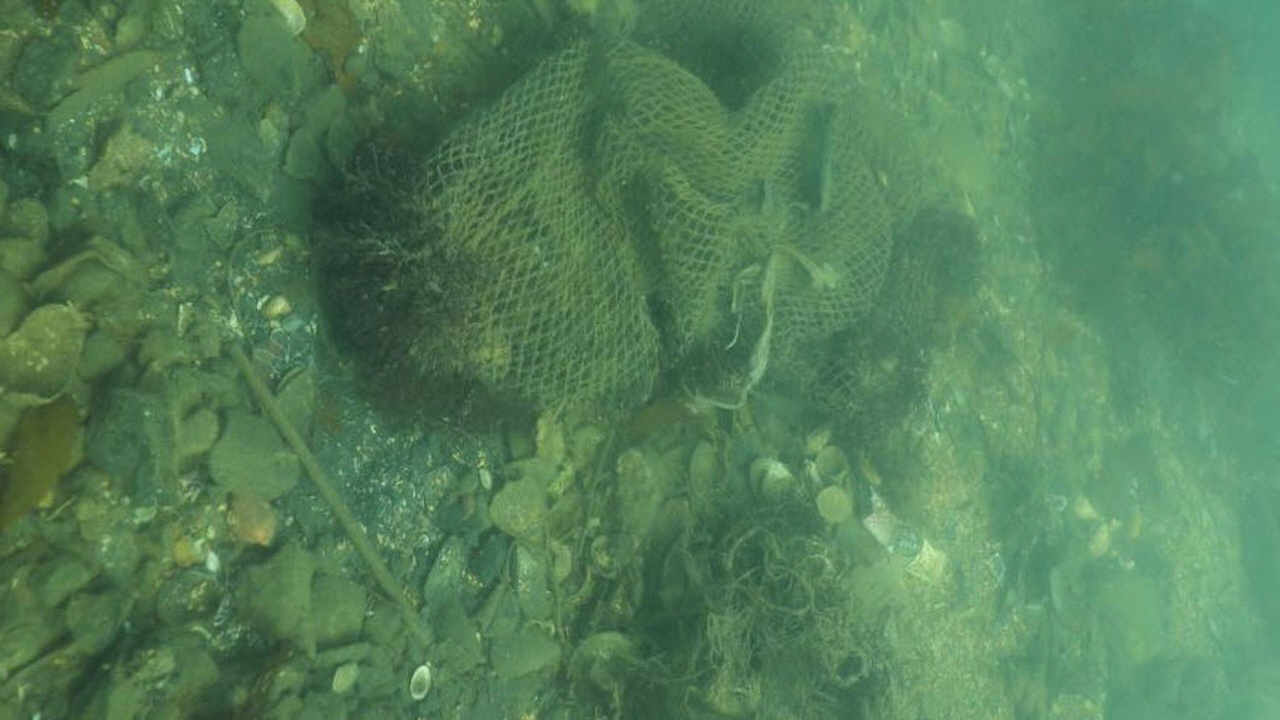fish net: (361, 35, 925, 418)
